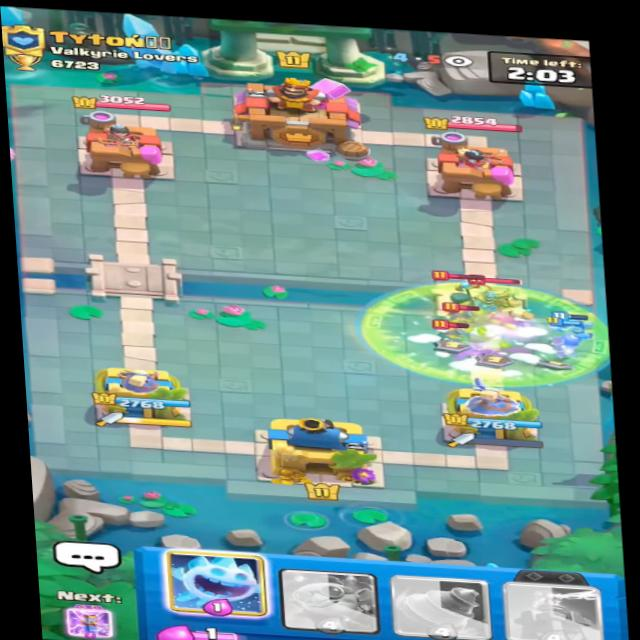bats: (442, 302, 480, 325), (426, 323, 465, 345)
night-witch: (429, 265, 476, 316)
prince: (476, 272, 530, 329)
